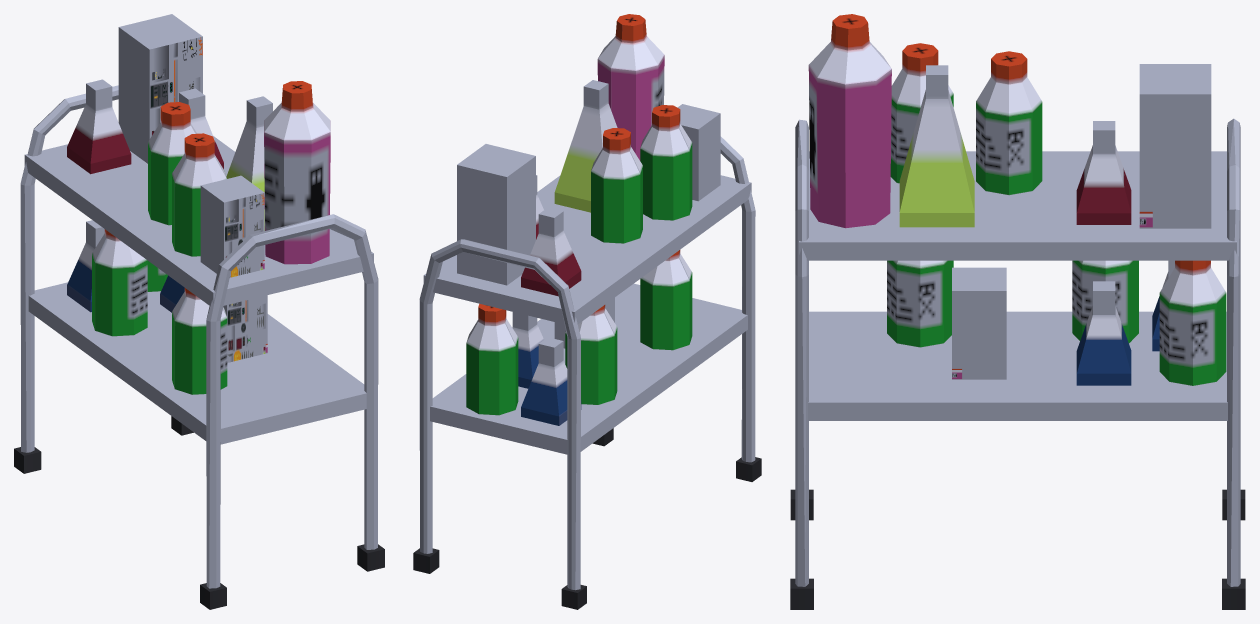
Rendered from wheelchair1.fbx.
3 renders of one model, left to right at view 1: azimuth 30°, elevation 25°; view 2: azimuth 150°, elevation 25°; view 3: azimuth 270°, elevation 25°, orthographic. The views are drawn at different scales.
Visible parts, largest first — view 1: Куб.155; view 2: Куб.155; view 3: Куб.155.
Boxes of the visible parts, left/top/right/bottom form: Куб.155: left=14, top=14, right=384, bottom=609; Куб.155: left=413, top=14, right=761, bottom=609; Куб.155: left=790, top=14, right=1245, bottom=609.
Bounding box in the file's own units: 48.53 × 126 × 94.13.
